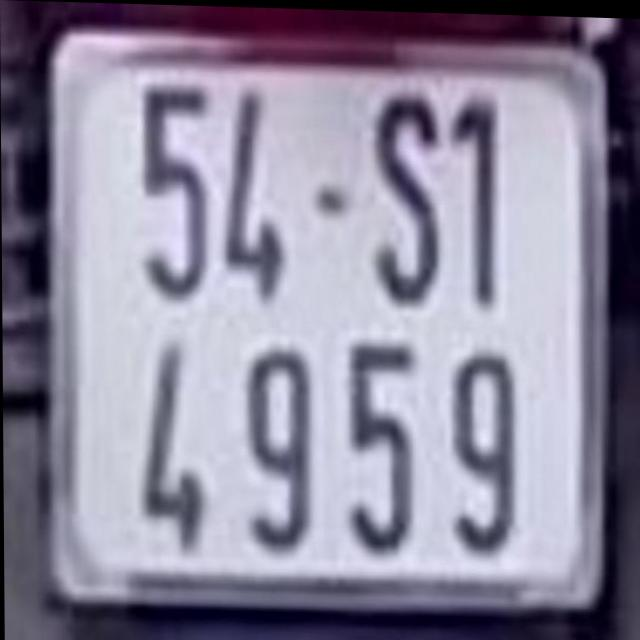1: (455, 89, 518, 305)
4: (149, 325, 211, 549), (229, 83, 293, 299)
5: (140, 79, 215, 300), (346, 336, 418, 554)
9: (242, 344, 316, 551), (452, 347, 522, 565)
S: (378, 88, 447, 306)
